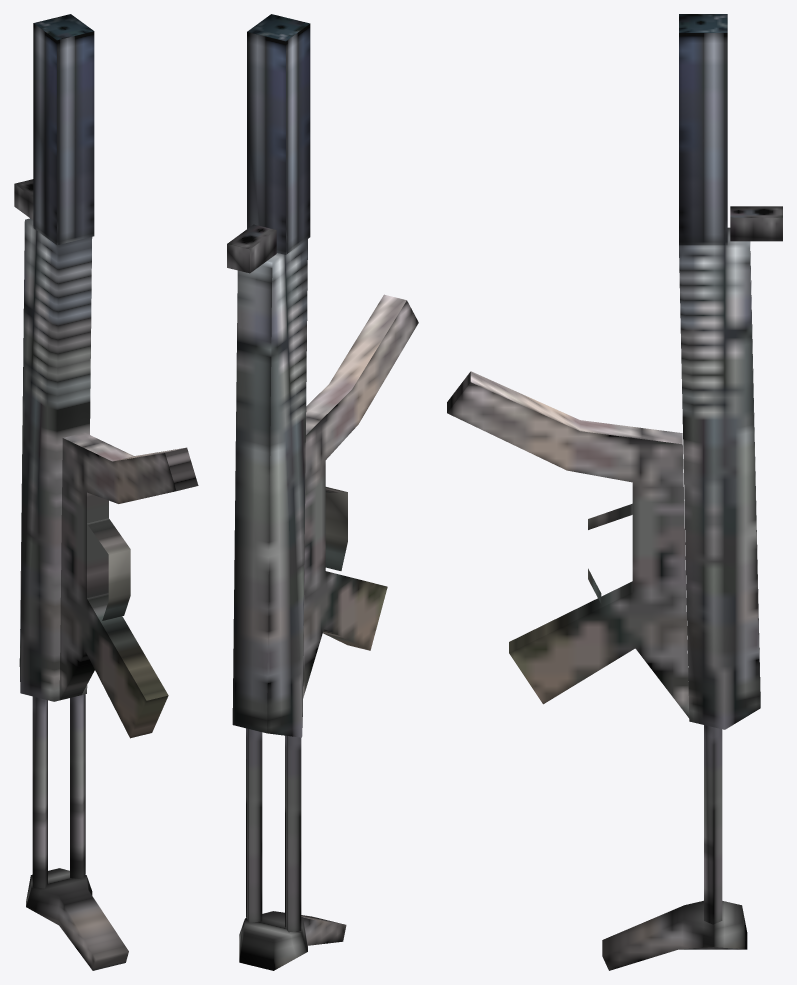
Rendered from SMG01_MP5SD3.glb.
3 renders of one model, left to right at view 1: azimuth 30°, elevation 25°; view 2: azimuth 150°, elevation 25°; view 3: azimuth 270°, elevation 25°, orthographic. The views are drawn at different scales.
Parts seen in each view (by area): view 1: SMG01_MP5SD3; view 2: SMG01_MP5SD3; view 3: SMG01_MP5SD3.
Boxes of the visible parts, box(x1,y1,x2,y2) form: SMG01_MP5SD3: box(14, 14, 198, 970); SMG01_MP5SD3: box(227, 14, 418, 970); SMG01_MP5SD3: box(447, 14, 782, 970).
Size of the model in its own units: 0.06 by 0.787 by 0.255.
1 material, 1 textured.
